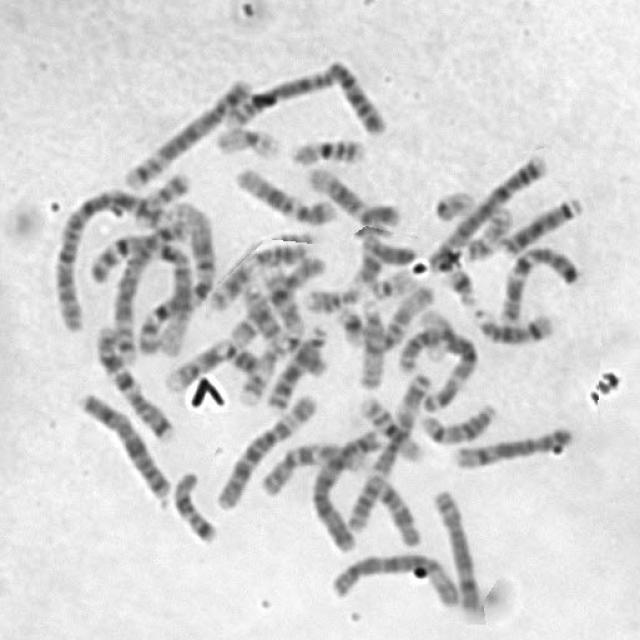A1: (90, 218, 197, 360), (130, 194, 220, 357)
A2: (45, 177, 182, 335), (215, 51, 389, 136)
A3: (340, 360, 436, 534), (390, 316, 480, 412)
B4: (422, 145, 550, 274), (303, 420, 383, 554)
B5: (116, 68, 256, 190), (107, 212, 202, 370)
C10: (252, 425, 384, 498), (226, 259, 334, 347)
C11: (203, 236, 317, 312), (294, 236, 388, 315)
C12: (227, 156, 338, 226), (299, 158, 403, 228)
C6: (208, 384, 320, 511), (323, 544, 464, 610)
C7: (87, 315, 177, 442), (492, 236, 582, 325)
C8: (424, 479, 485, 616), (446, 417, 576, 471)
C9: (156, 332, 266, 394), (254, 252, 306, 361)
D13: (258, 318, 329, 412), (493, 188, 585, 258)
D14: (412, 394, 499, 446), (466, 299, 556, 346)
D15: (370, 276, 436, 352), (352, 290, 388, 391)
E16: (352, 388, 425, 462), (282, 128, 368, 166)
E17: (232, 334, 284, 406), (458, 198, 514, 262)
E18: (357, 466, 423, 549), (164, 461, 220, 545)
F19: (207, 116, 283, 161), (414, 301, 456, 363)
F20: (126, 162, 193, 228), (234, 280, 286, 342)
G21: (437, 258, 480, 307), (329, 296, 368, 348)
G22: (362, 260, 416, 301), (426, 180, 476, 222)
X: (68, 382, 174, 503)
Y: (354, 230, 418, 265)
